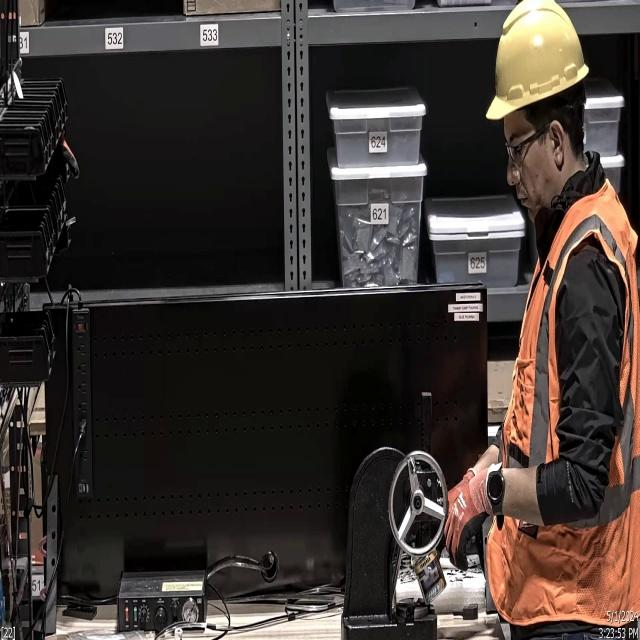construction-gloves: (444, 458, 486, 574)
